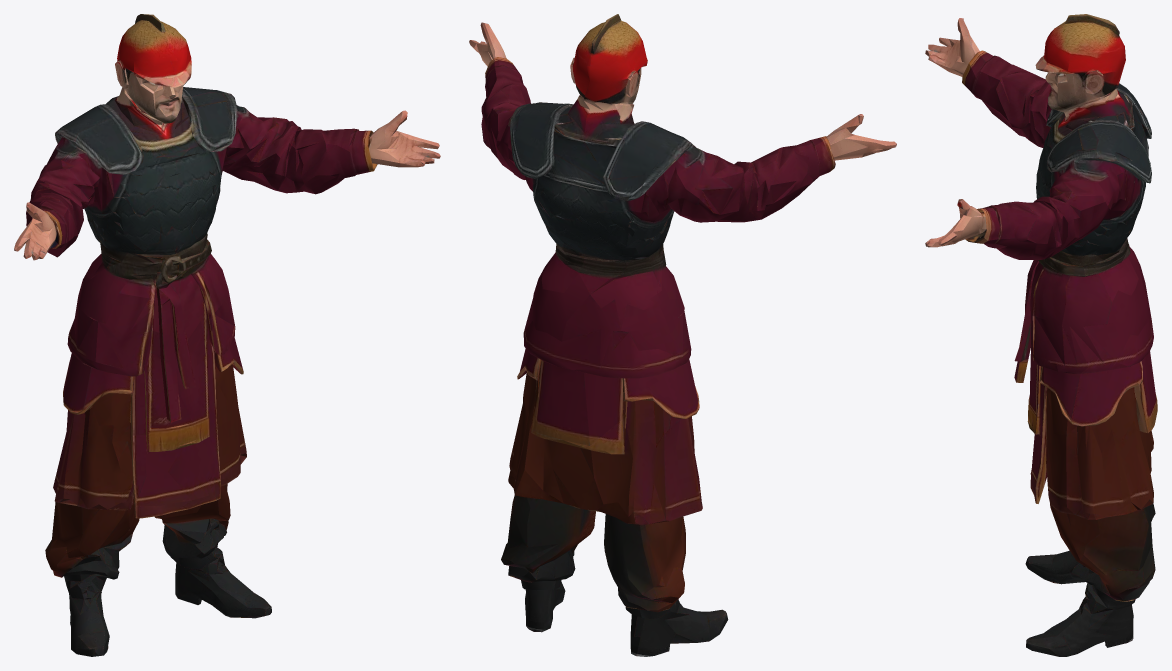
The model's file is char_CV_giao.glb.
The picture shows the model from 3 angles, left to right: view 1: azimuth 30°, elevation 25°; view 2: azimuth 150°, elevation 25°; view 3: azimuth 270°, elevation 25°; orthographic projection.
Bounding box in the file's own units: 1.4 × 1.9 × 0.6682.
Materials: 1 (1 with a texture image).
